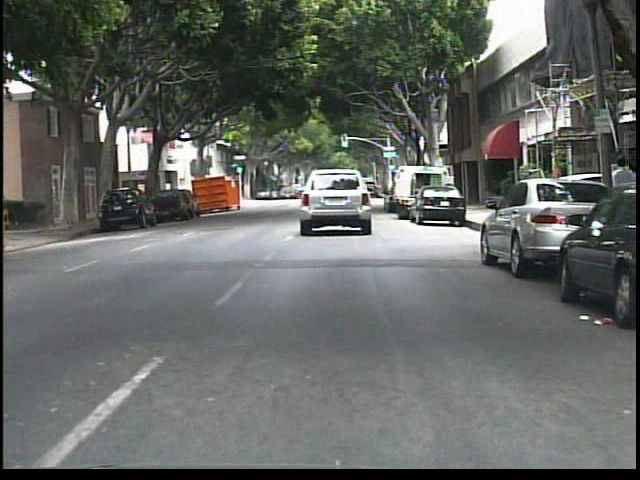person: (599, 150, 636, 256)
